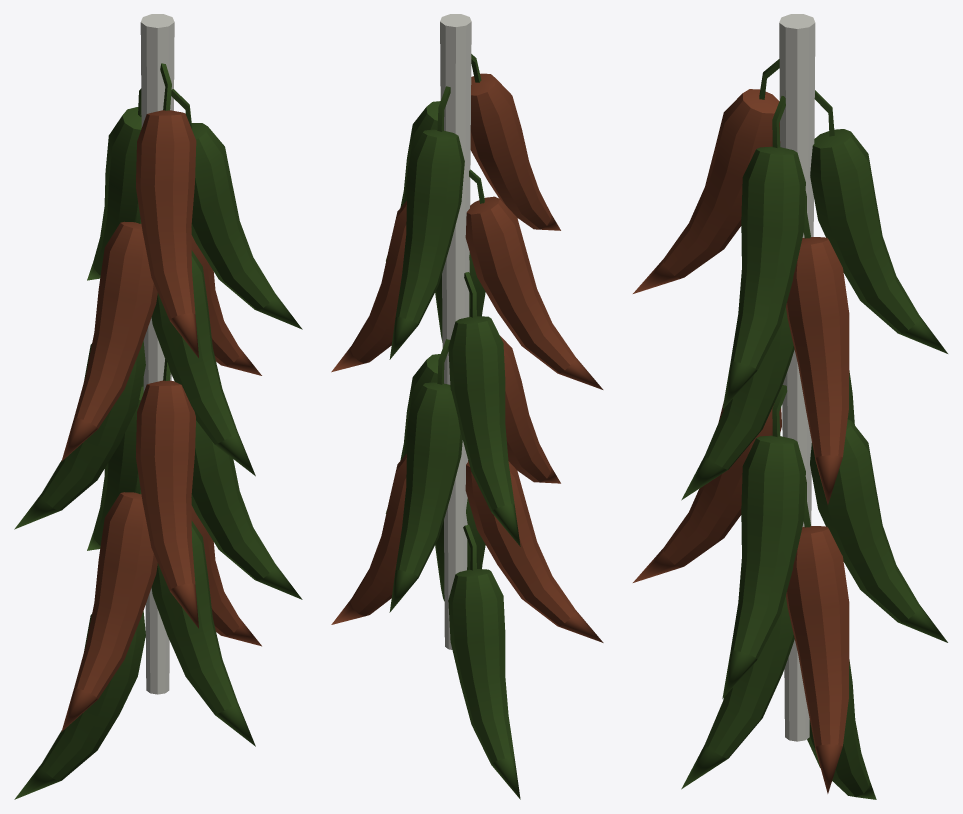
File: PepperString.fbx
3 renders of one model, left to right at view 1: azimuth 30°, elevation 25°; view 2: azimuth 150°, elevation 25°; view 3: azimuth 270°, elevation 25°, orthographic. The views are drawn at different scales.
Visible parts, largest first — view 1: PepperStringCombined; view 2: PepperStringCombined; view 3: PepperStringCombined.
Part boxes in pixels (box(x1,y1,x2,y2)): PepperStringCombined: box(14, 14, 302, 799); PepperStringCombined: box(331, 14, 603, 799); PepperStringCombined: box(633, 14, 947, 799).
Size of the model in its own units: 5.32 by 16.09 by 5.53.
